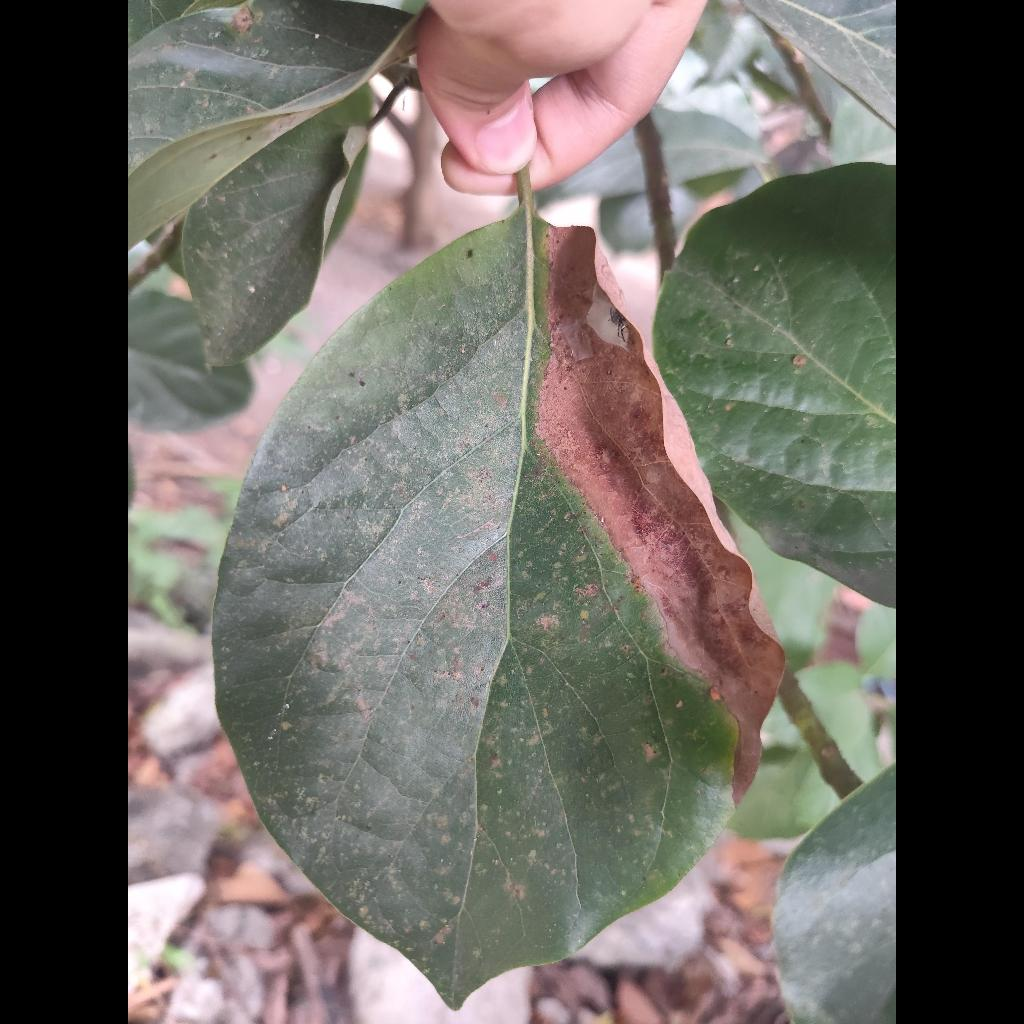Anthracnose: (213, 208, 784, 1008)
